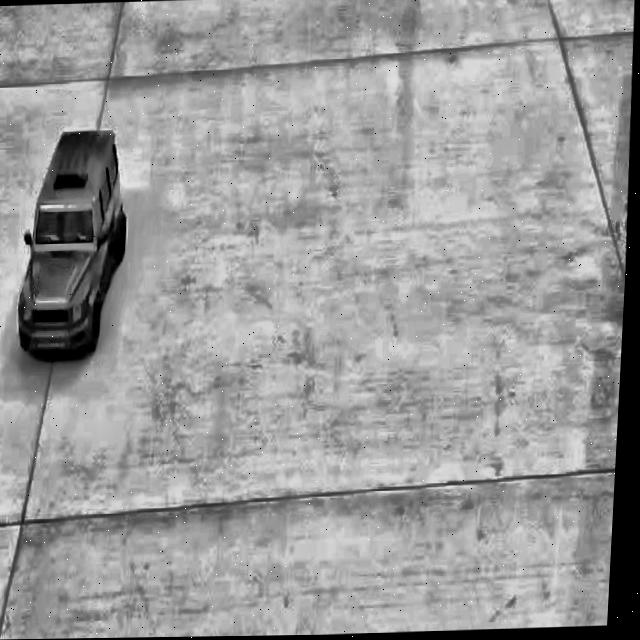light_vehicle: (13, 118, 138, 366)
